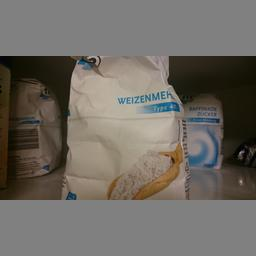flour: (62, 55, 190, 200), (9, 74, 62, 180), (177, 90, 224, 170)
